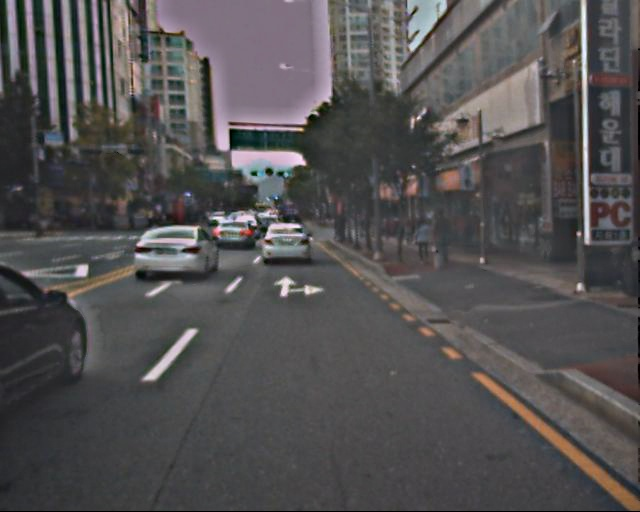person: (430, 209, 452, 263), (413, 218, 432, 265)
